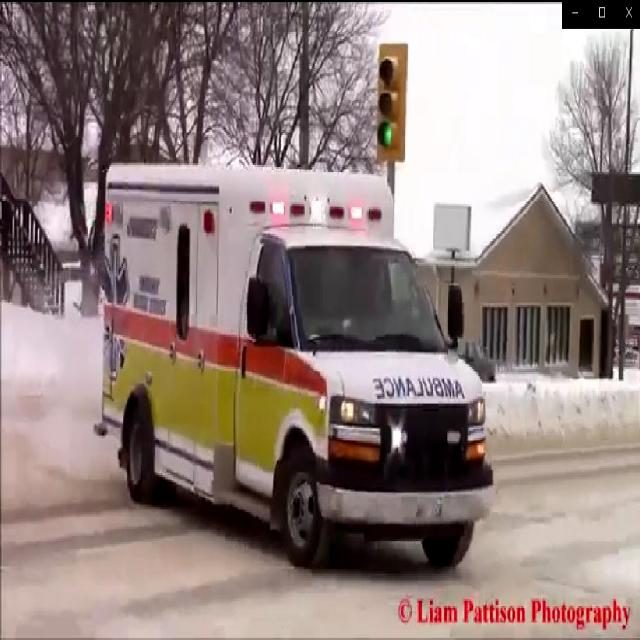emergency: (98, 151, 494, 577)
